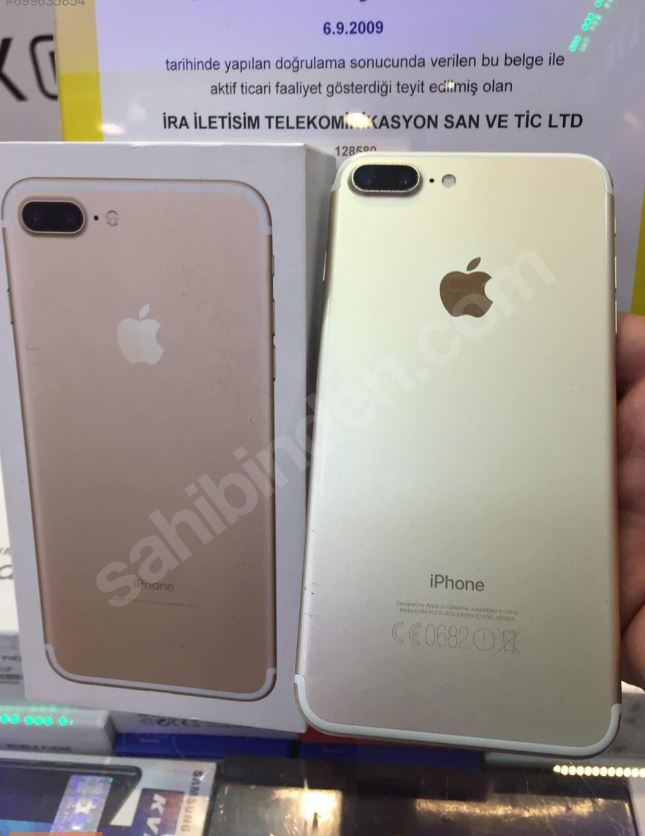apple: (392, 240, 515, 339)
